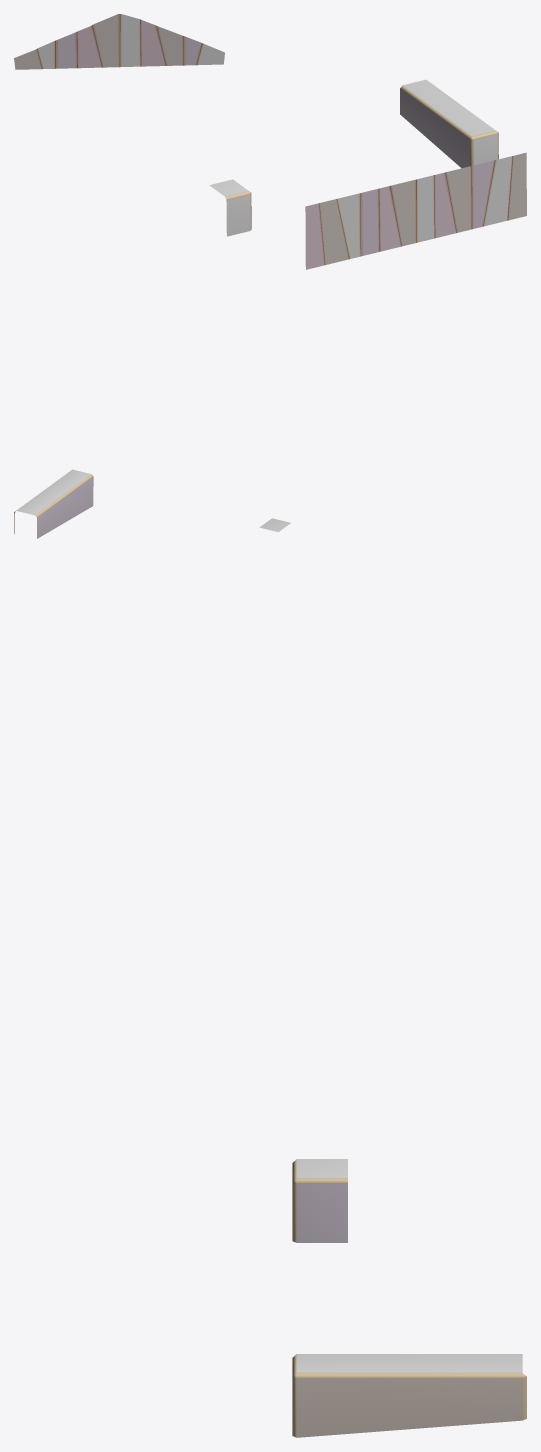
Rendered from FunHutWood.glb.
3 views of the same model, one above another, from view 1: azimuth 30°, elevation 25°; view 2: azimuth 150°, elevation 25°; view 3: azimuth 270°, elevation 25° (orthographic). The views are drawn at different scales.
Parts seen in each view (by area): view 1: FunHutWood; view 2: FunHutWood; view 3: FunHutWood.
Part boxes in pixels (x1=…): FunHutWood: x1=14, y1=14, x2=526, y2=269; FunHutWood: x1=14, y1=469, x2=290, y2=538; FunHutWood: x1=292, y1=1159, x2=526, y2=1437.
Bounding box in the file's own units: 5.33 × 3.01 × 2.79.
